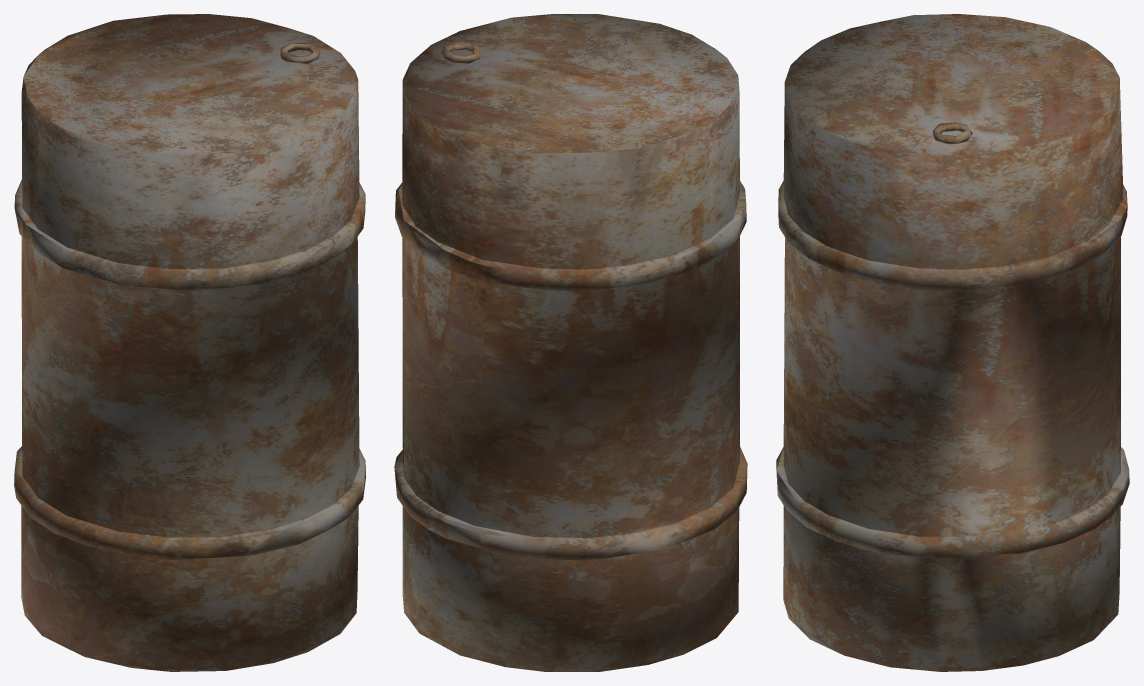
The model's file is barrel.fbx.
3 renders of one model, left to right at view 1: azimuth 30°, elevation 25°; view 2: azimuth 150°, elevation 25°; view 3: azimuth 270°, elevation 25°, orthographic.
Visible parts, largest first — view 1: Barrel; view 2: Barrel; view 3: Barrel.
Boxes of the visible parts, x1,y1,x2,y2 form: Barrel: [14, 14, 365, 671]; Barrel: [394, 14, 747, 671]; Barrel: [776, 14, 1129, 671].
Size of the model in its own units: 4.82 by 7.9 by 4.82.
